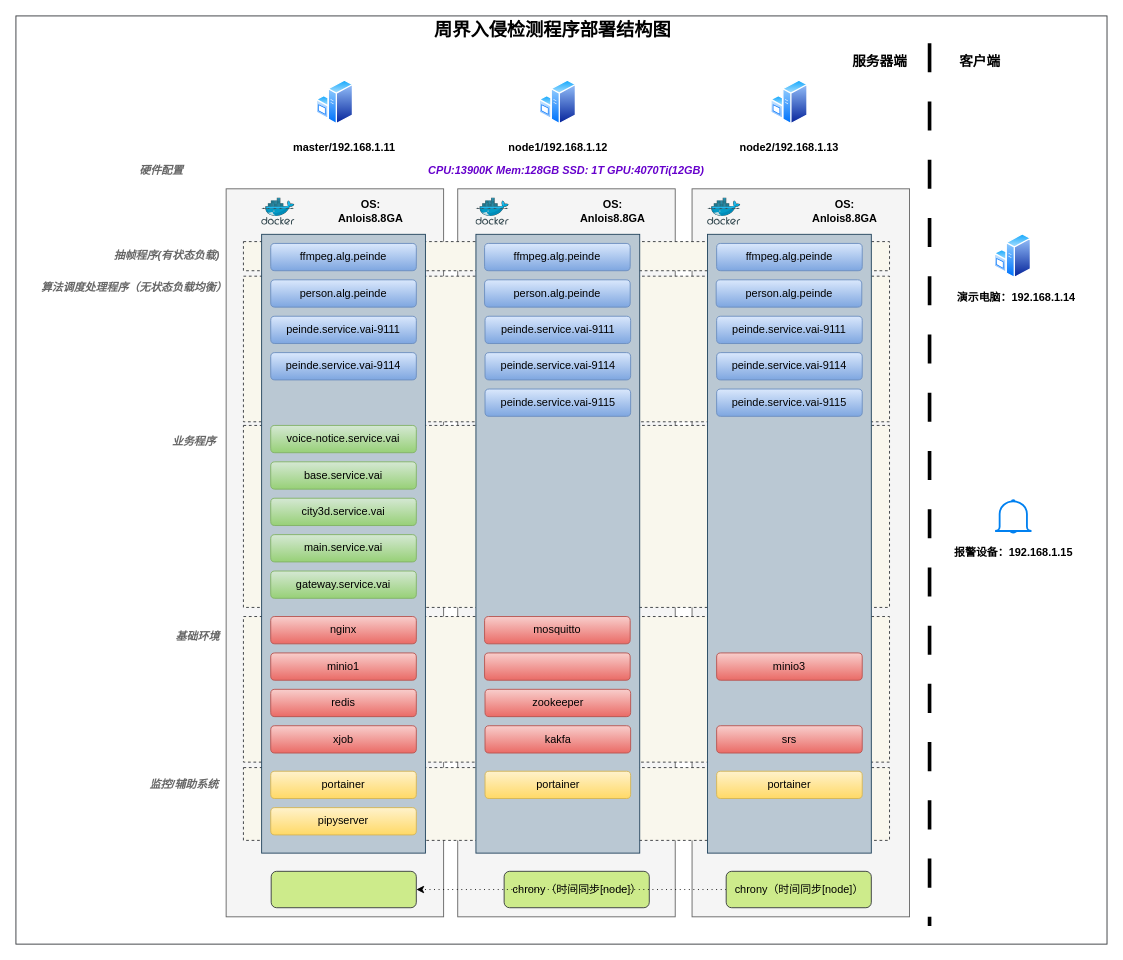
Some shapes in this 1123 by 960 pixel diagram are drawn without their labels. Each missing label, with the centre of its shape:
chrony（时间同步[master]）: point 343,889
minio2: point 557,666
